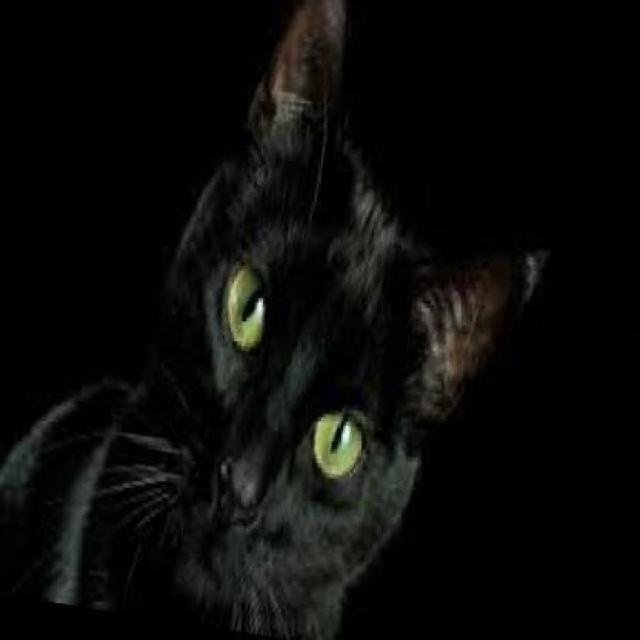animals: (0, 0, 591, 638)
